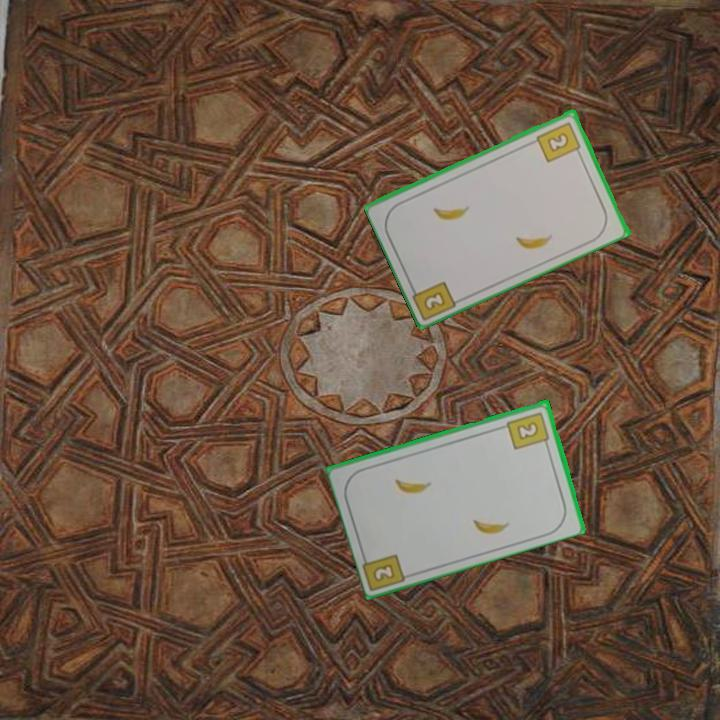2b: (533, 118, 584, 165), (504, 408, 552, 452), (369, 560, 398, 585), (420, 288, 448, 313)
